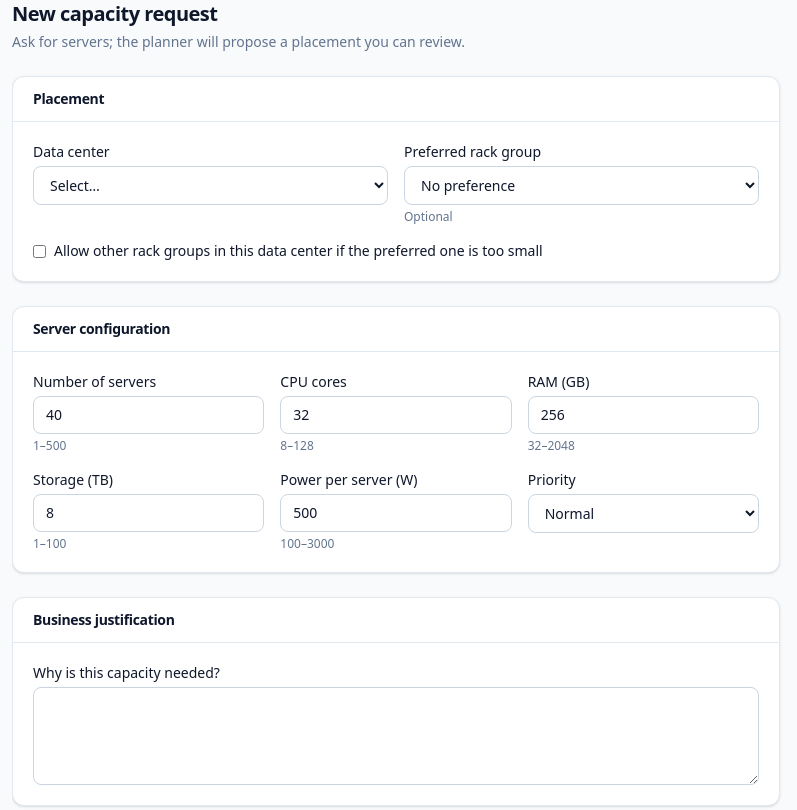
NewRequestPage › shows a general error when the server rejects the request
The width and height of the screenshot is (797, 810).
Select "DC-A — Data Center A" in the dropdown labelled "Data center" at point(210, 186), box [33,166,388,205]
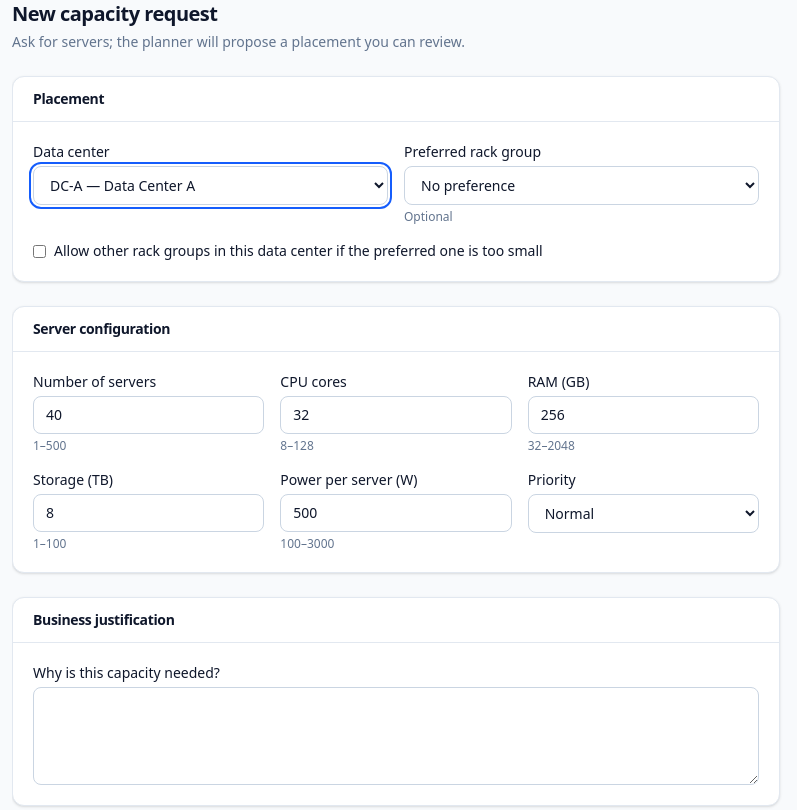
Type "ok" into the text box labelled "Why is this capacity needed?" at point(396, 736), box [33,687,759,785]
(page scrolled)
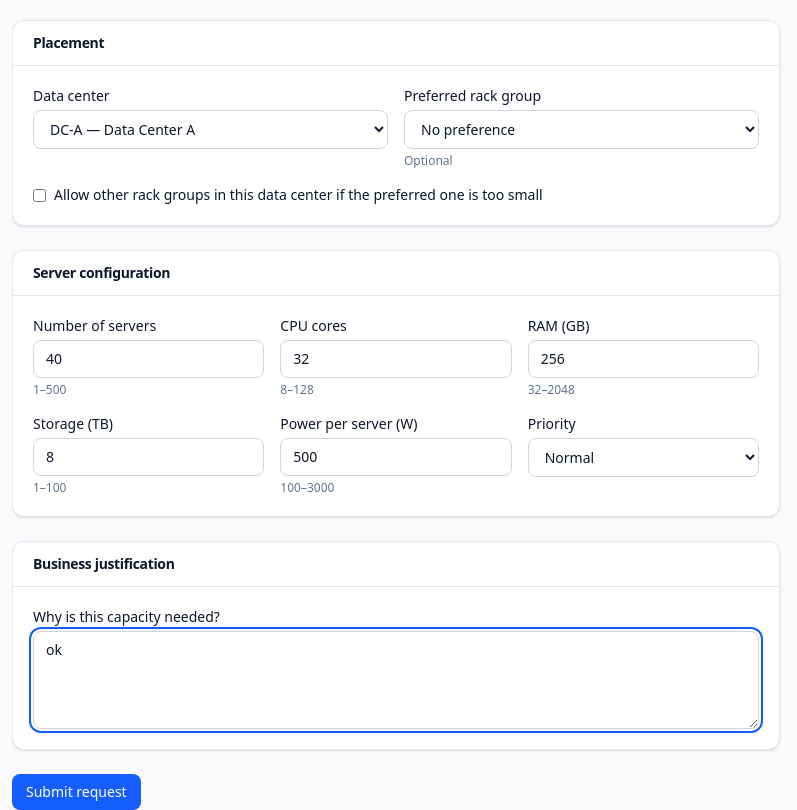
Click the button "Submit request" at point(76, 792), box [12,774,141,809]
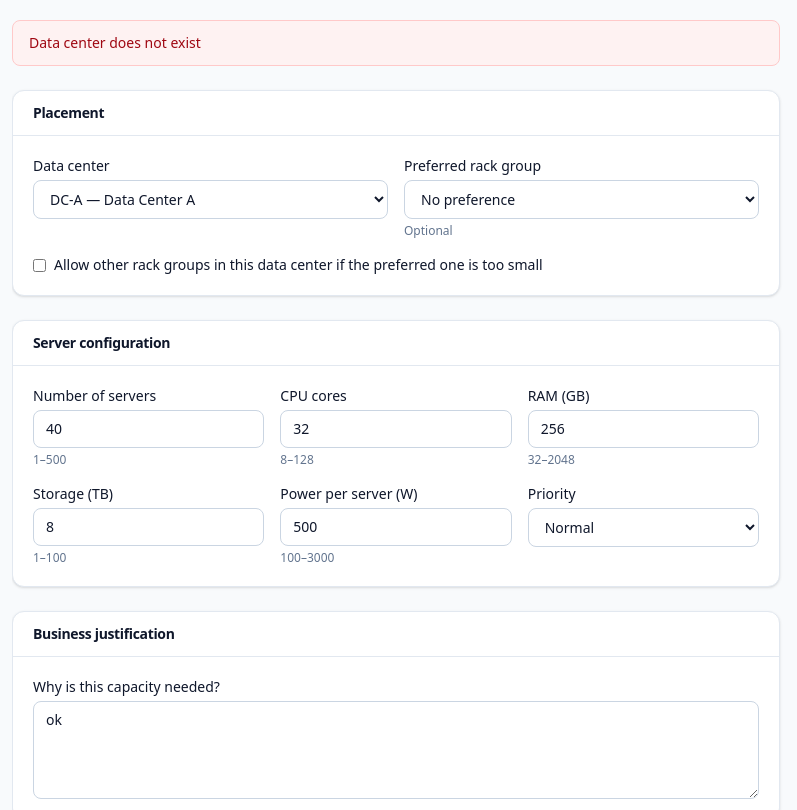
Expected: the text "Data center does not exist" is shown, [12,20,780,66]
